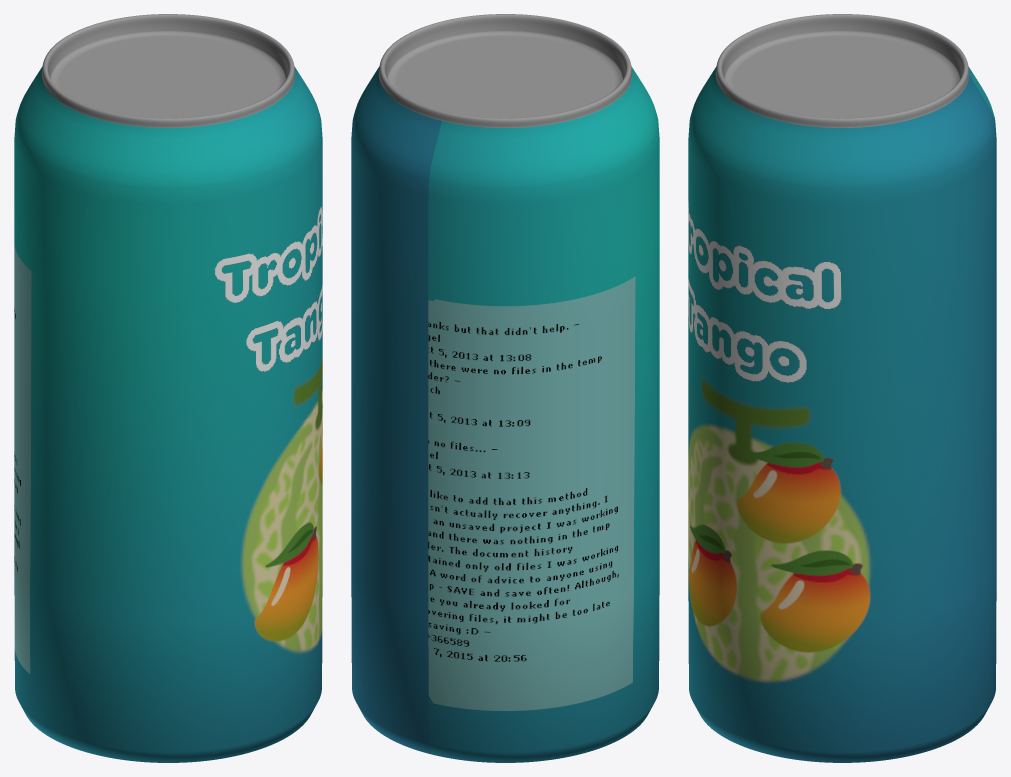
File: can_v2.glb
3 renders of one model, left to right at view 1: azimuth 30°, elevation 25°; view 2: azimuth 150°, elevation 25°; view 3: azimuth 270°, elevation 25°, orthographic.
Parts seen in each view (by area): view 1: Cylinder; view 2: Cylinder; view 3: Cylinder.
Boxes of the visible parts, <box> form: Cylinder: <box>14,14,322,762</box>; Cylinder: <box>351,14,659,762</box>; Cylinder: <box>688,14,996,762</box>.
Bounding box in the file's own units: 1.37 × 3.17 × 1.37.
Materials: 1 (1 with a texture image).
